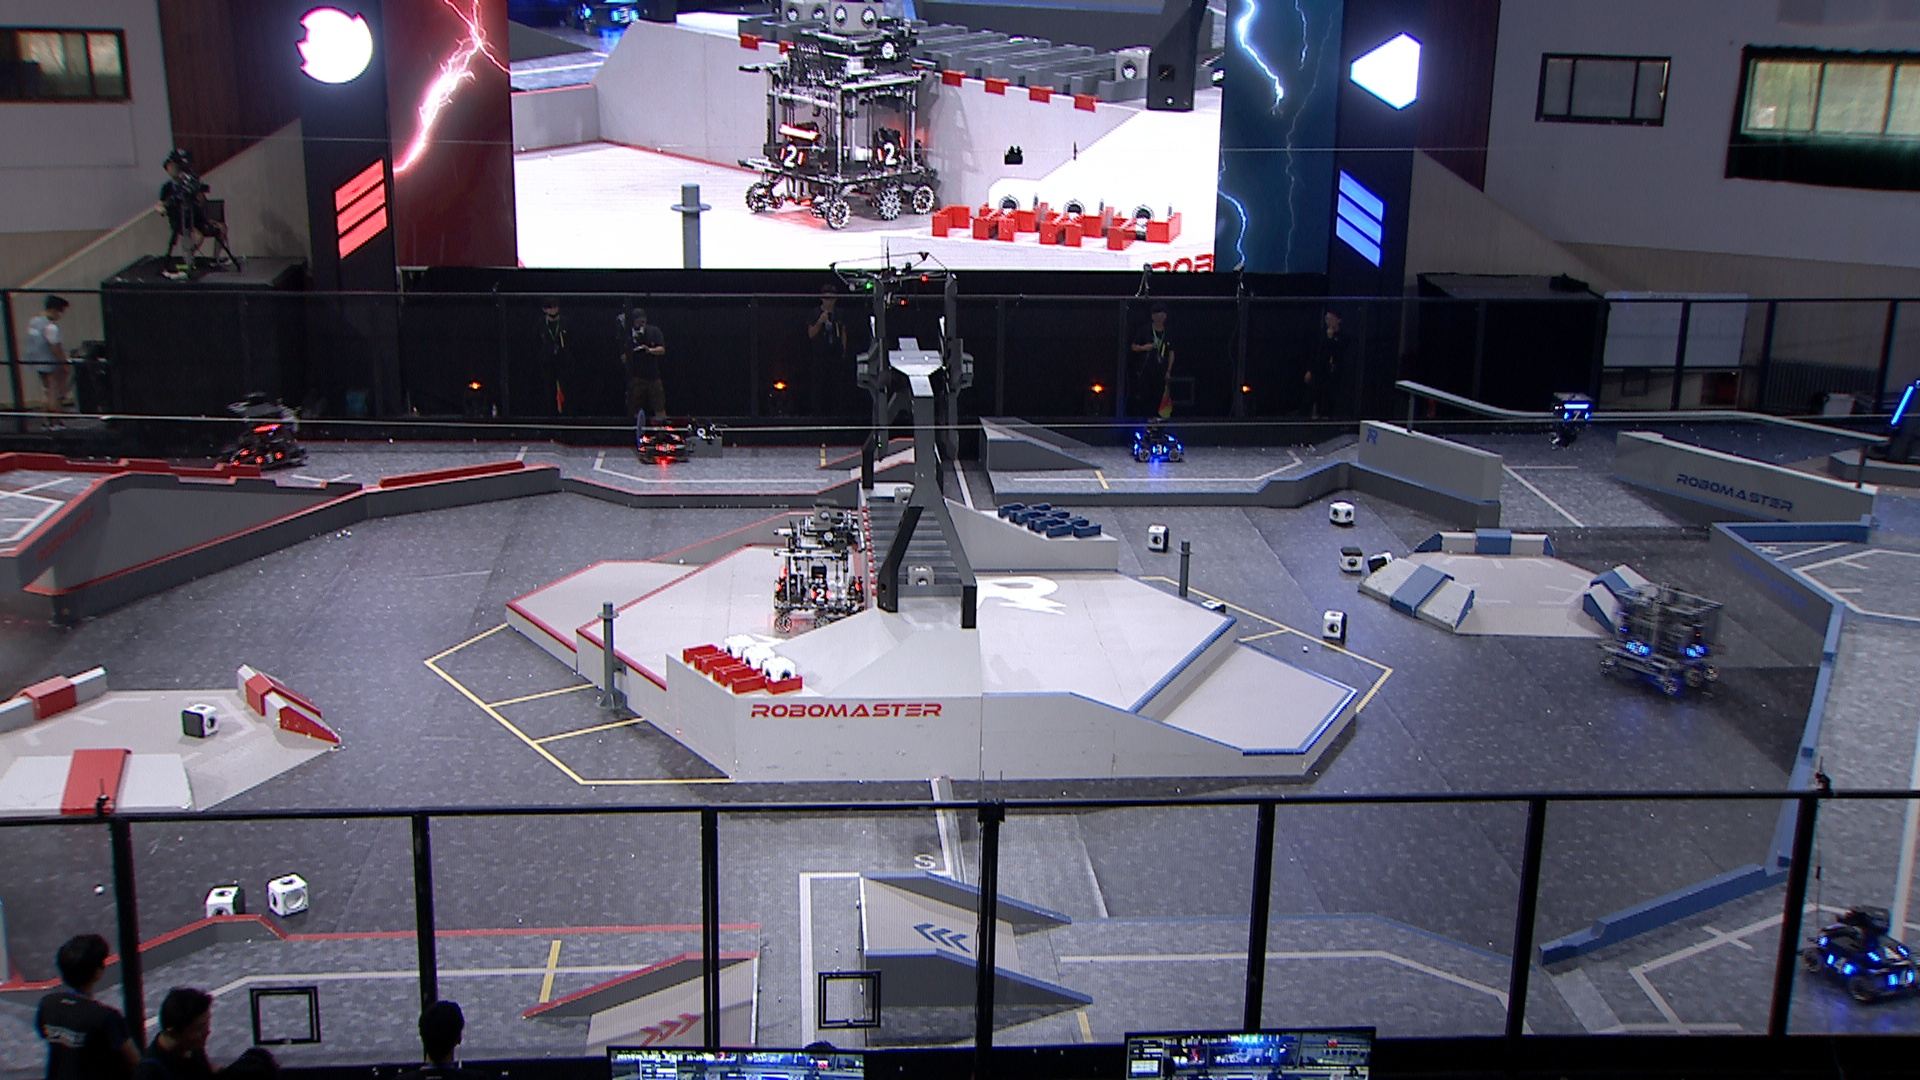armor: (1888, 384, 1915, 429), (1865, 944, 1909, 964), (1888, 967, 1917, 992), (1825, 953, 1851, 975), (253, 451, 285, 465), (1625, 640, 1651, 655), (1561, 409, 1592, 422), (1683, 640, 1705, 657), (808, 588, 832, 604), (1153, 442, 1171, 458), (654, 442, 674, 455), (235, 447, 252, 458)
base: (1861, 368, 1920, 465)
car: (1596, 579, 1731, 698), (770, 495, 870, 633), (1797, 902, 1920, 1006), (219, 390, 309, 472), (632, 411, 694, 465), (1127, 417, 1188, 462)
ignore: (744, 12, 939, 228)
watcher: (1544, 392, 1600, 448)
